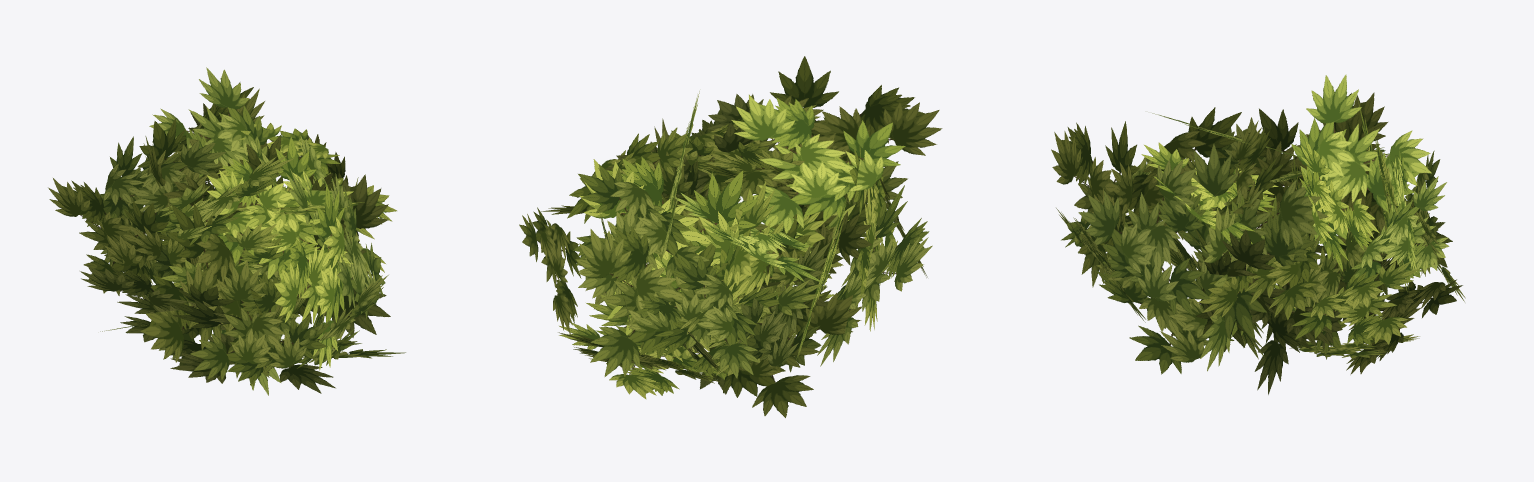
File: bush_a.glb
3 views of the same model, side by side, from view 1: azimuth 30°, elevation 25°; view 2: azimuth 150°, elevation 25°; view 3: azimuth 270°, elevation 25° (orthographic). The views are drawn at different scales.
Visible parts, largest first — view 1: bush_a; view 2: bush_a; view 3: bush_a.
Part boxes in pixels (box(x1,y1,x2,y2)): bush_a: box(48, 67, 405, 395); bush_a: box(519, 56, 942, 417); bush_a: box(1051, 74, 1465, 394).
Size of the model in its own units: 2.66 by 2.38 by 2.82.
1 material, 1 textured.
